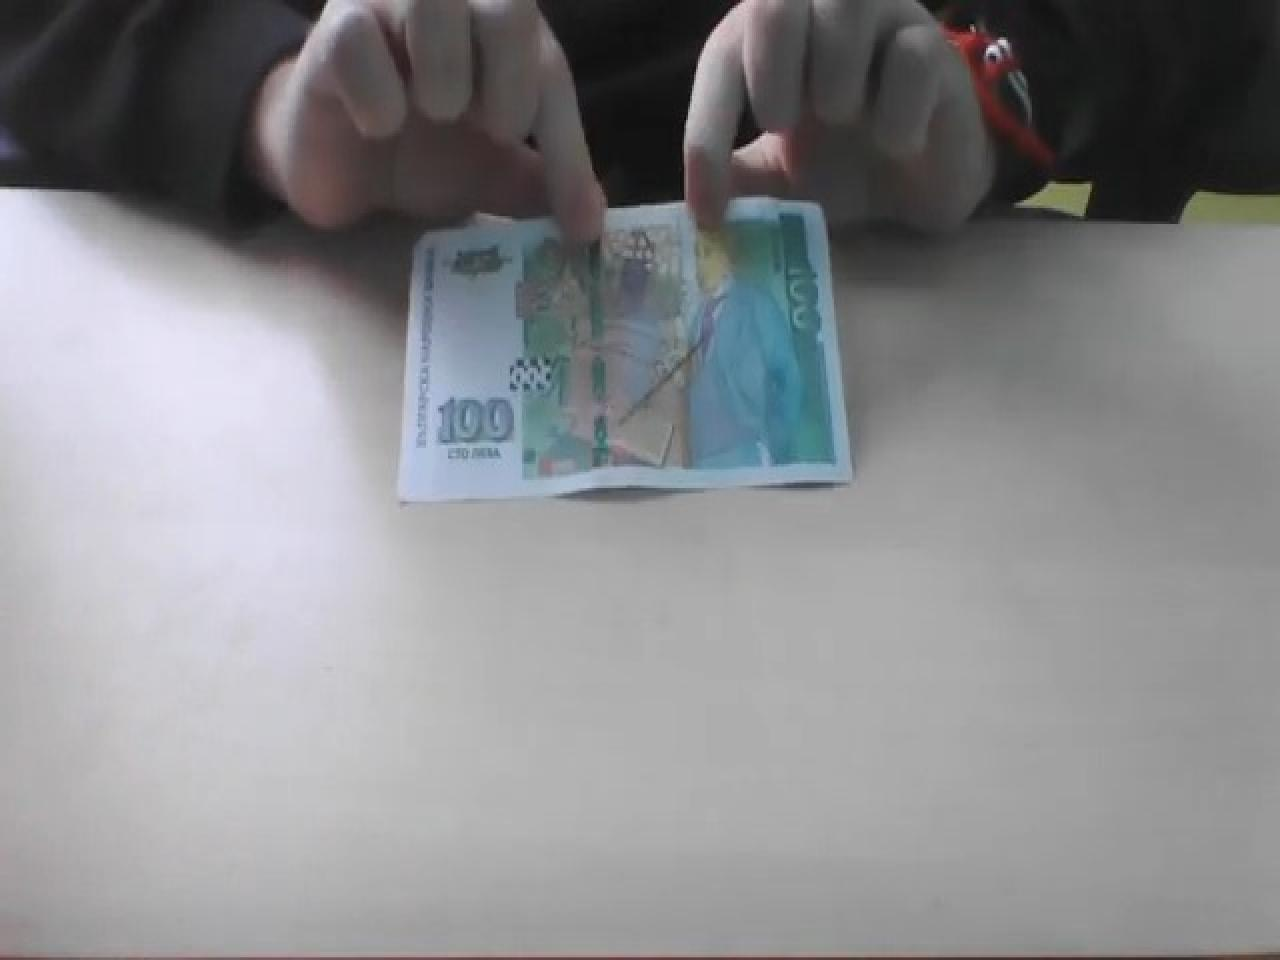100leva: (396, 200, 852, 509)
